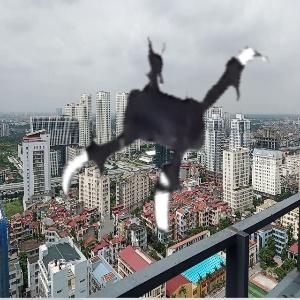drone: (46, 18, 297, 269)
